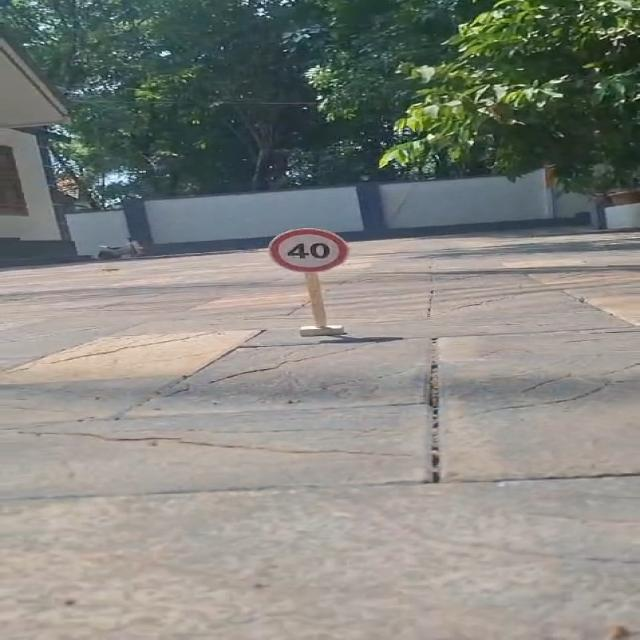Speed40: (265, 226, 353, 274)
